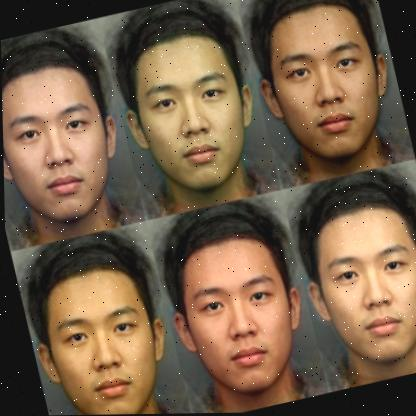person: (150, 189, 318, 405), (10, 218, 186, 416), (104, 0, 273, 200), (1, 22, 137, 235), (283, 162, 416, 375), (240, 0, 402, 168)
